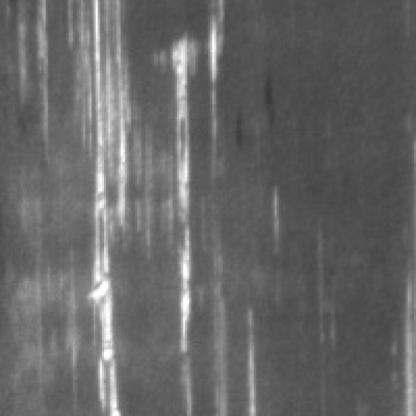scratches: (68, 6, 127, 416), (158, 29, 223, 360)
